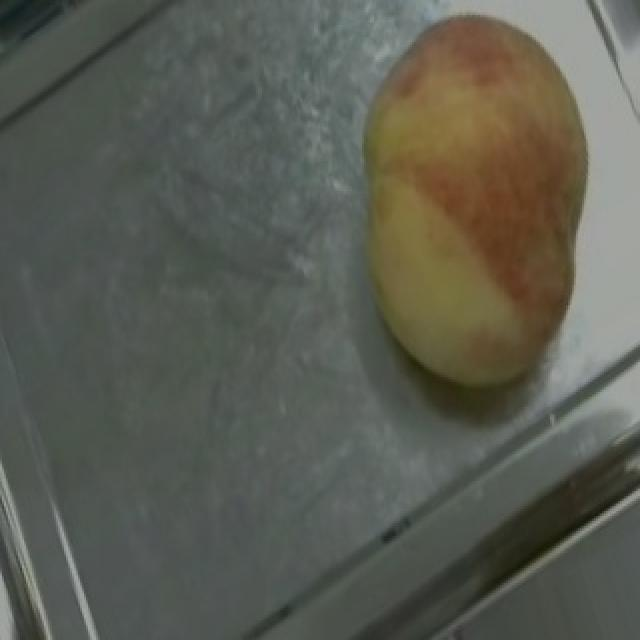Fruit: (322, 0, 638, 362)
